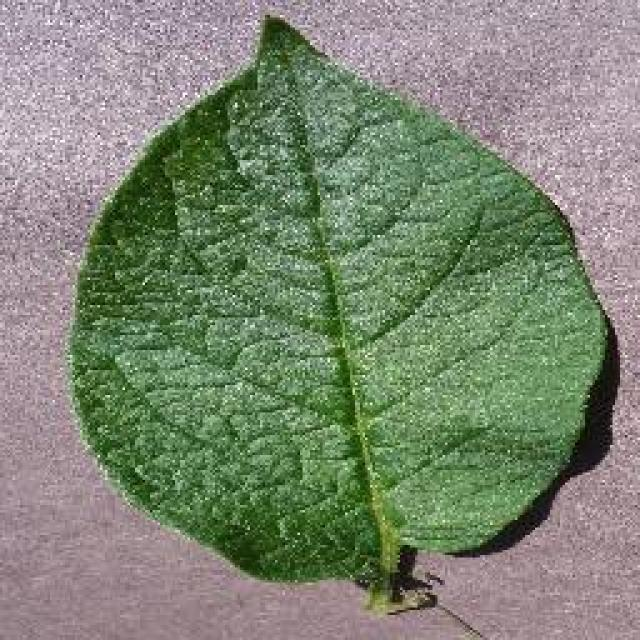Potato: (65, 10, 615, 610)
